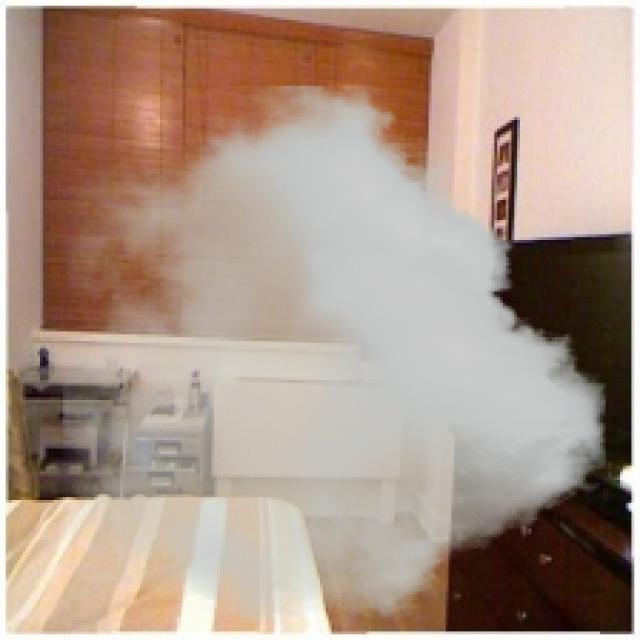smoke: (63, 85, 606, 626)
